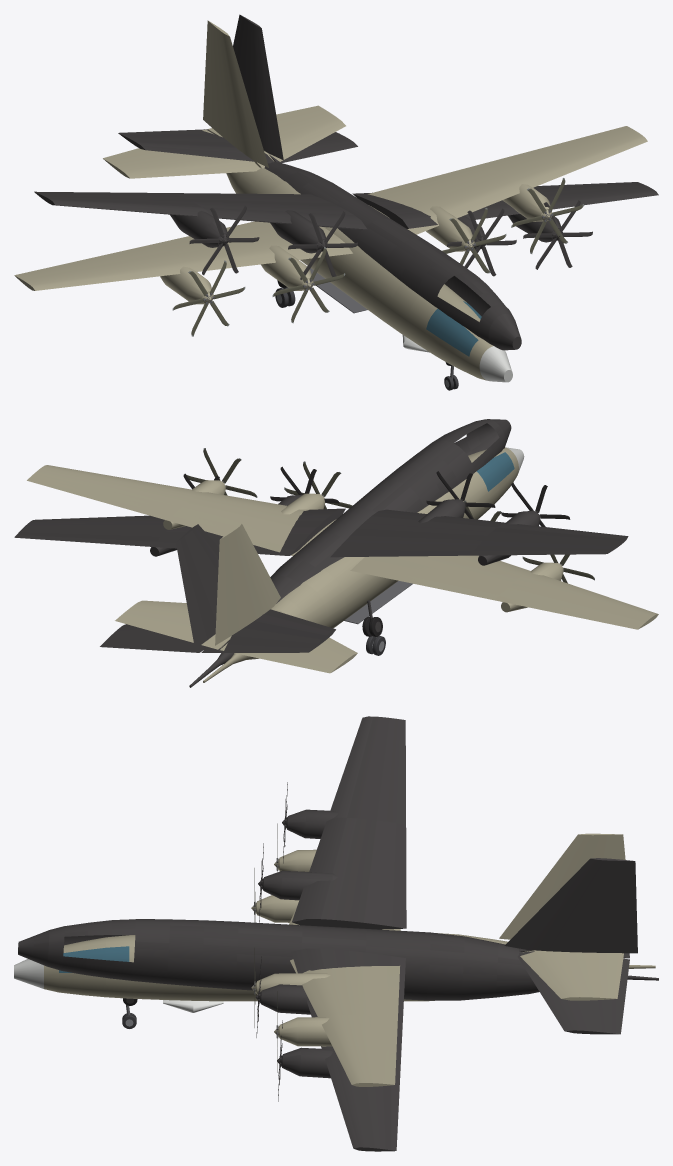
Rendered from maritimePatrol__y_8q.glb.
3 views of the same model, one above another, from view 1: azimuth 30°, elevation 25°; view 2: azimuth 150°, elevation 25°; view 3: azimuth 270°, elevation 25° (orthographic).
Parts seen in each view (by area): view 1: Fuselage_Mesh, Wreck, Propeller_1_Mesh, Propeller_Mesh, Propeller_3_Mesh, Propeller_2_Mesh; view 2: Wreck, Fuselage_Mesh, Propeller_3_Mesh, Propeller_2_Mesh; view 3: Wreck, Fuselage_Mesh.
Boxes of the visible parts, x1,y1,x2,y2 form: Fuselage_Mesh: [14, 20, 647, 390]; Wreck: [34, 14, 658, 365]; Propeller_1_Mesh: [172, 260, 245, 336]; Propeller_Mesh: [272, 247, 345, 323]; Propeller_3_Mesh: [511, 178, 583, 253]; Propeller_2_Mesh: [442, 207, 506, 273]; Wreck: [14, 419, 628, 687]; Fuselage_Mesh: [27, 447, 658, 682]; Propeller_3_Mesh: [186, 448, 257, 497]; Propeller_2_Mesh: [284, 461, 352, 509]; Wreck: [18, 716, 658, 1151]; Fuselage_Mesh: [14, 833, 655, 1086].
Size of what is drawn, in the model's own units: 38.75 by 11.3 by 34.2.
